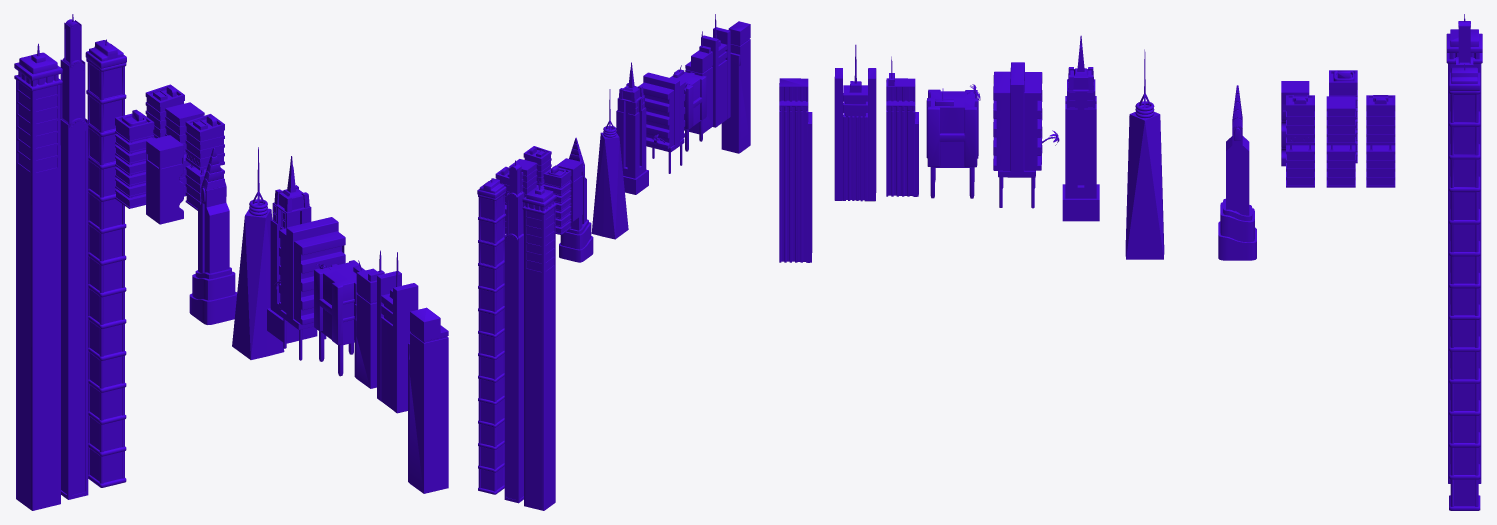
The model's file is buildings.fbx.
3 renders of one model, left to right at view 1: azimuth 30°, elevation 25°; view 2: azimuth 150°, elevation 25°; view 3: azimuth 270°, elevation 25°, orthographic. The views are drawn at different scales.
Visible parts, largest first — view 1: build.004, build.005, build.003, skyscraper_01.002, buildings.008, buildings.010, p_house_02.001, skyscraper_02.001, p_house.001, buildings.009, buildings.013, buildings.015 (+4 smaller); view 2: build.004, build.005, build.003, buildings.010, p_house_02.001, buildings.009, skyscraper_01.002, skyscraper_02.001, buildings.008, p_house.001, buildings.015, skyscraper_01.001 (+4 smaller); view 3: build.005, skyscraper_01.002, p_house_02.001, buildings.010, skyscraper_02.001, buildings.009, p_house.001, buildings.008, skyscraper_01.001, build.004, buildings.012, buildings.011 (+3 smaller).
Boxes of the visible parts, <box> form: build.004: <box>14,43,62,510</box>; build.005: <box>85,39,126,487</box>; build.003: <box>60,14,88,499</box>; skyscraper_01.002: <box>408,307,448,493</box>; buildings.008: <box>189,148,237,324</box>; buildings.010: <box>232,147,284,359</box>; p_house_02.001: <box>274,217,345,360</box>; skyscraper_02.001: <box>377,252,418,413</box>; p_house.001: <box>314,260,365,376</box>; buildings.009: <box>267,156,317,343</box>; buildings.013: <box>146,135,183,224</box>; buildings.015: <box>115,109,154,208</box>; build.004: <box>522,181,556,510</box>; build.005: <box>477,178,506,494</box>; build.003: <box>504,160,524,503</box>; buildings.010: <box>591,89,628,239</box>; p_house_02.001: <box>638,72,685,173</box>; buildings.009: <box>616,62,648,194</box>; skyscraper_01.002: <box>721,21,750,153</box>; skyscraper_02.001: <box>701,14,730,127</box>; buildings.008: <box>559,137,593,262</box>; p_house.001: <box>670,65,706,151</box>; buildings.015: <box>543,165,571,234</box>; skyscraper_01.001: <box>684,31,712,134</box>; build.005: <box>1449,63,1480,510</box>; skyscraper_01.002: <box>779,78,812,262</box>; p_house_02.001: <box>993,62,1059,208</box>; buildings.010: <box>1125,49,1164,259</box>; skyscraper_02.001: <box>834,44,876,201</box>; buildings.009: <box>1062,35,1099,221</box>; p_house.001: <box>926,84,980,198</box>; buildings.008: <box>1218,85,1256,260</box>; skyscraper_01.001: <box>886,56,918,196</box>; build.004: <box>1446,29,1482,483</box>; buildings.012: <box>1366,95,1395,187</box>; buildings.011: <box>1326,96,1355,187</box>.
Size of the model in its own units: 48.09 by 195 by 259.
